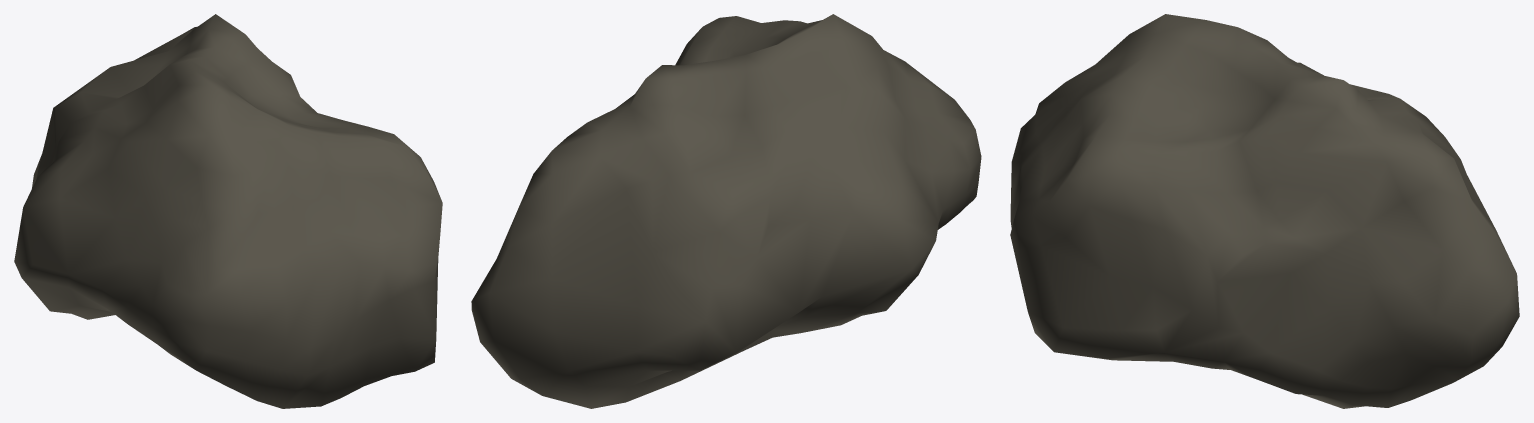
3 renders of one model, left to right at view 1: azimuth 30°, elevation 25°; view 2: azimuth 150°, elevation 25°; view 3: azimuth 270°, elevation 25°, orthographic. The views are drawn at different scales.
Parts seen in each view (by area): view 1: AST_03_LOD0__AST_03_LOD007___Default_0; view 2: AST_03_LOD0__AST_03_LOD007___Default_0; view 3: AST_03_LOD0__AST_03_LOD007___Default_0.
Boxes of the visible parts, bbox=[...] form: AST_03_LOD0__AST_03_LOD007___Default_0: bbox=[14, 14, 442, 408]; AST_03_LOD0__AST_03_LOD007___Default_0: bbox=[471, 14, 981, 408]; AST_03_LOD0__AST_03_LOD007___Default_0: bbox=[1010, 14, 1519, 408].
Size of the model in its own units: 7.46 by 7.04 by 9.73.
Materials: 1 (1 with a texture image).
